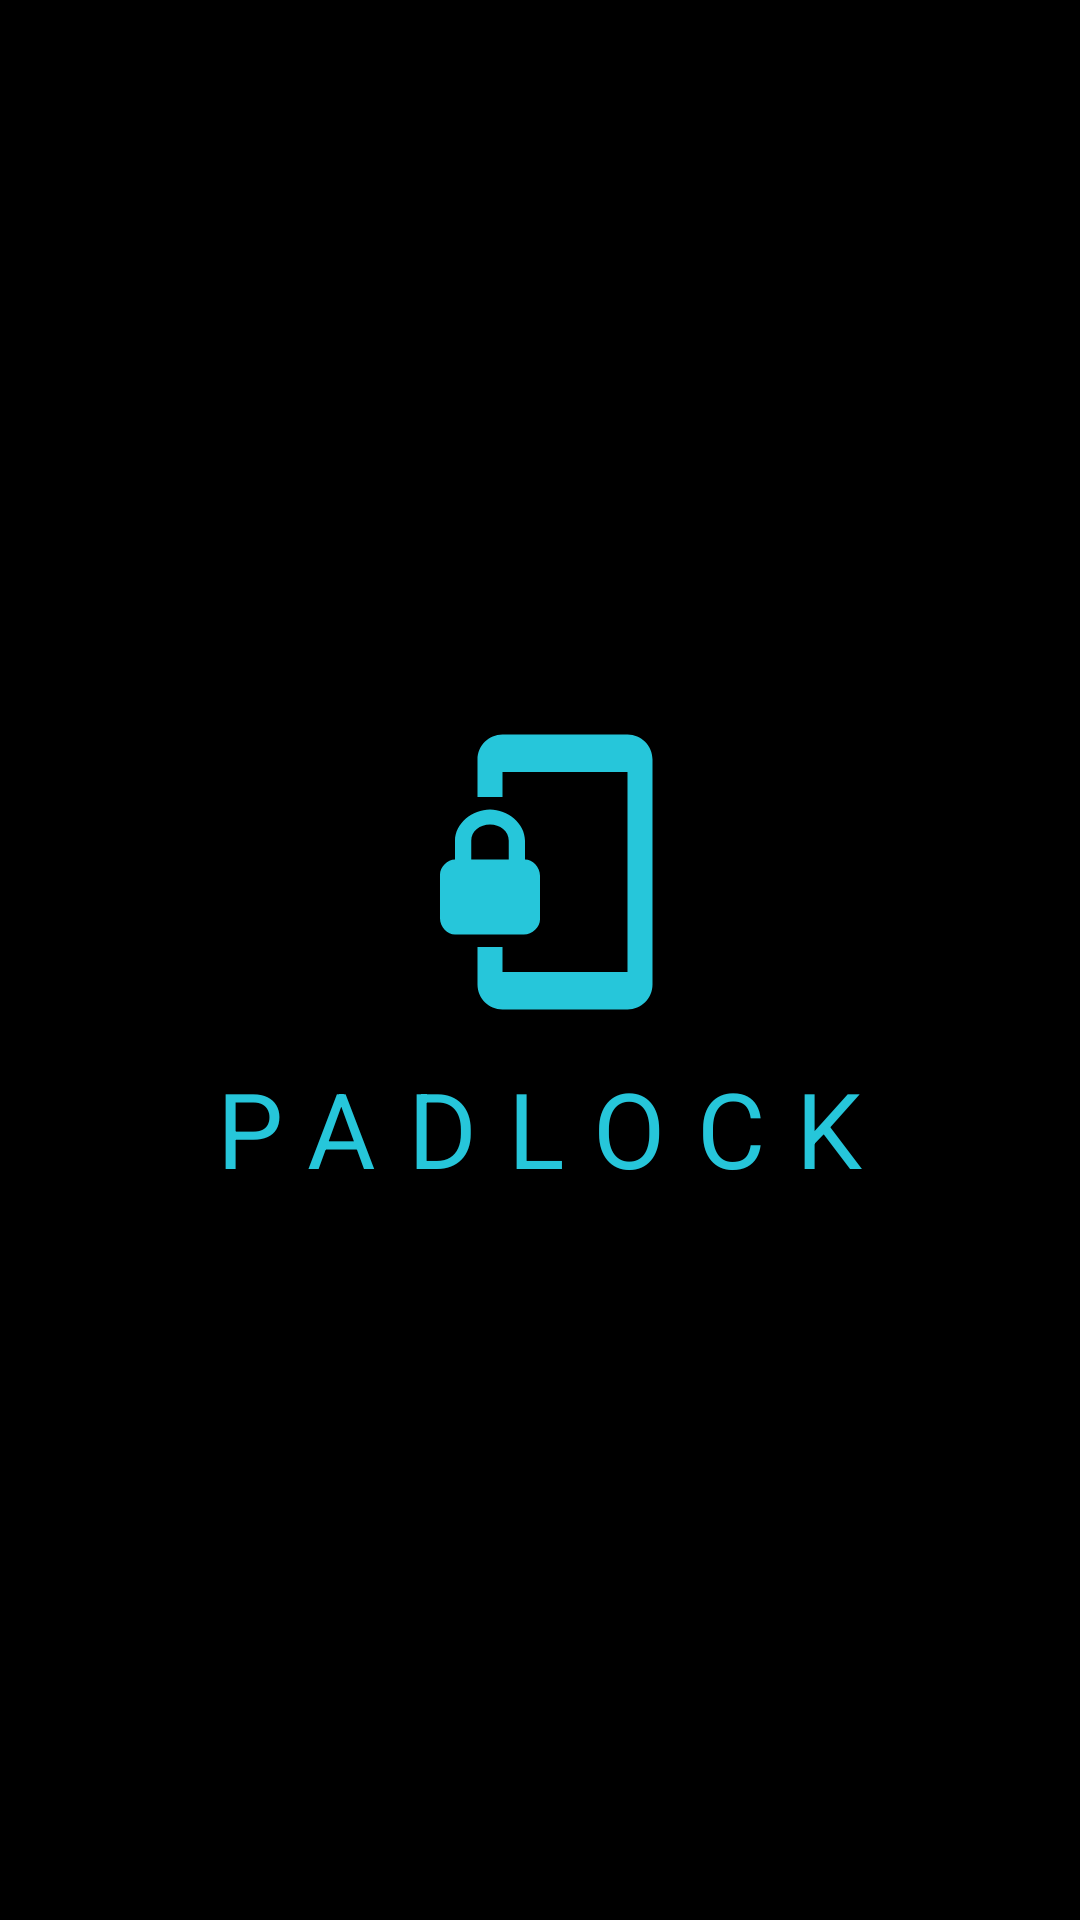

Screen size 1080w x 1920h. Icon name, then its center in pixels as (x,y):
phone lock: (546,872)
